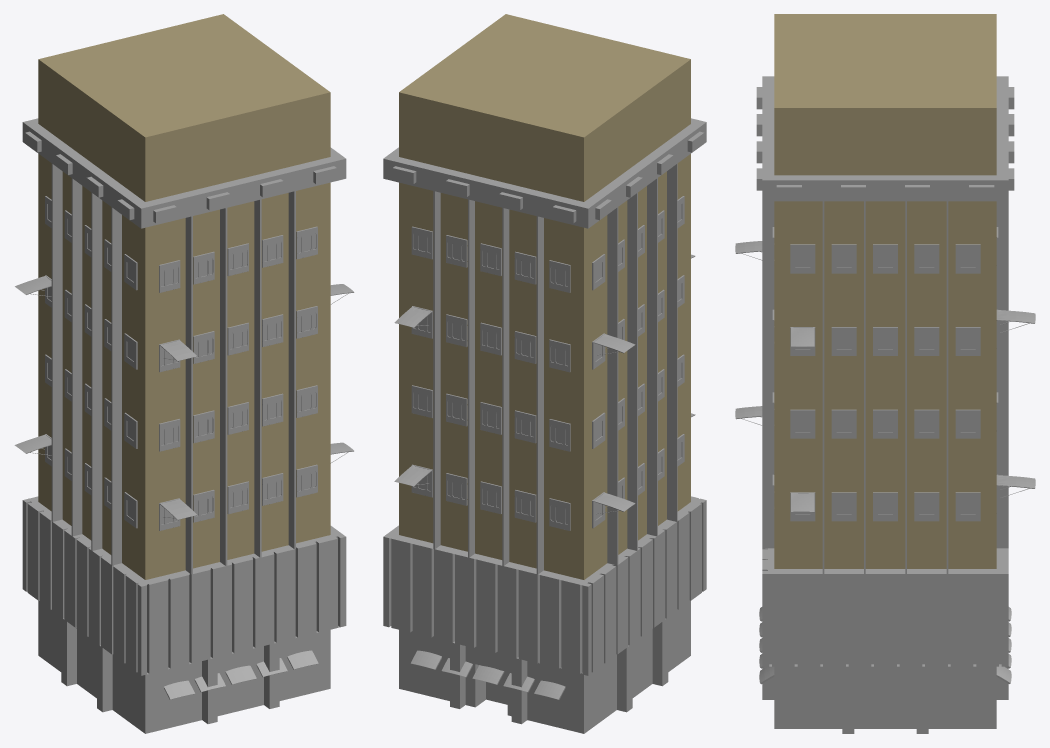
File: Med_04.fbx
The picture shows the model from 3 angles, left to right: view 1: azimuth 30°, elevation 25°; view 2: azimuth 150°, elevation 25°; view 3: azimuth 270°, elevation 25°; orthographic projection. The views are drawn at different scales.
Visible parts, largest first — view 1: Med_04; view 2: Med_04; view 3: Med_04.
Boxes of the visible parts, x1,y1,x2,y2 form: Med_04: (14,14,354,733); Med_04: (383,14,706,733); Med_04: (735,14,1035,733).
Bounding box in the file's own units: 2589 × 5907 × 2589.
